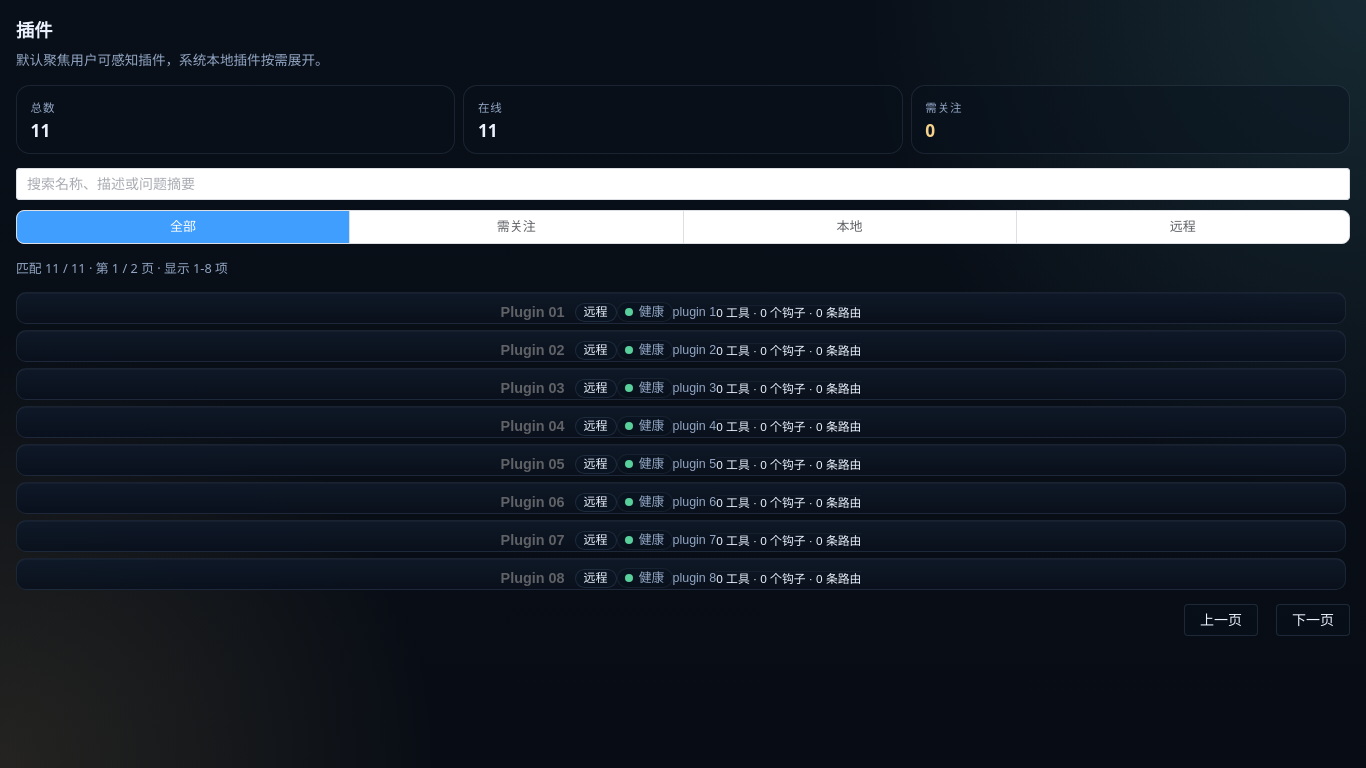
it: PluginSidebar › paginates plugin index results and resets to the first page after searching
Step 1. Click the button with test id "plugin-sidebar-next-page" → (1313, 620), box left=1276, top=604, right=1350, bottom=636
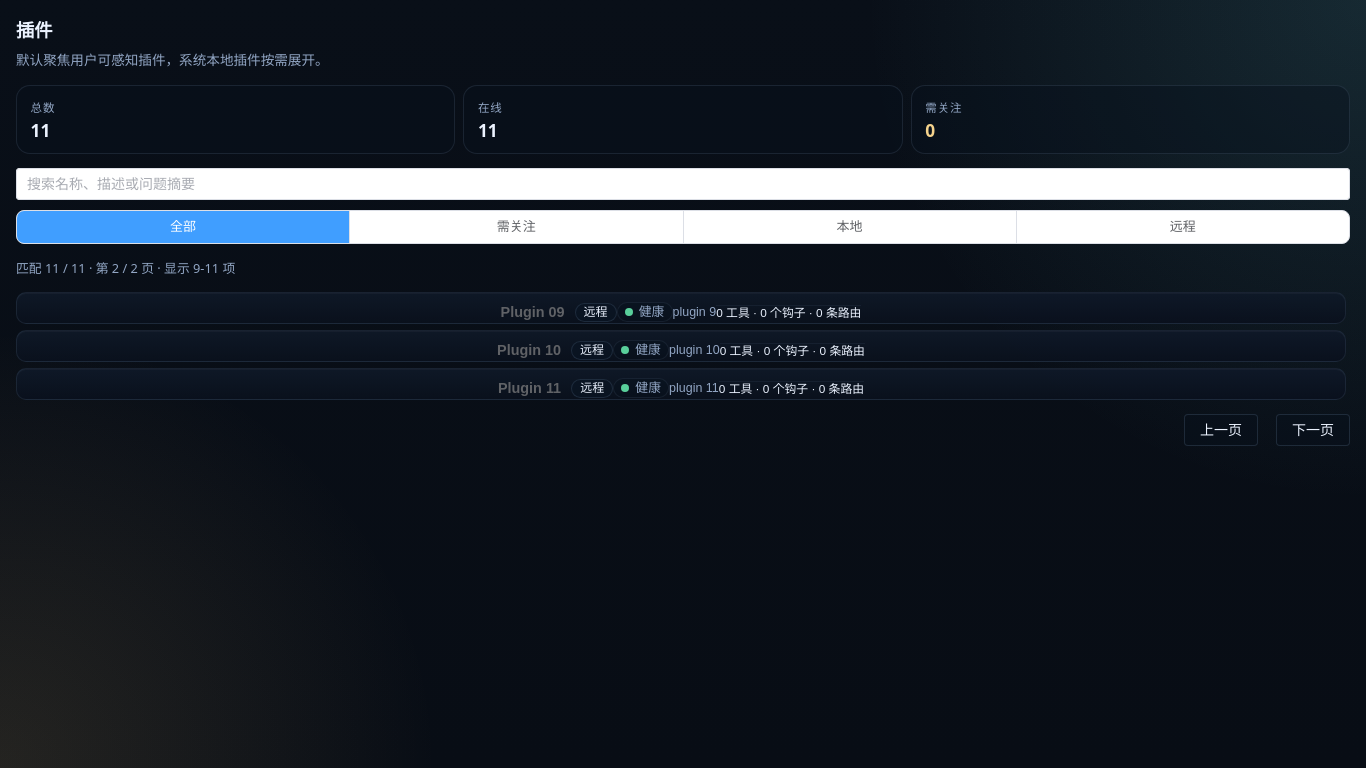
Expected: the text "第 2 / 2 页" is shown, left=89, top=259, right=235, bottom=277
Expected: the text "Plugin 09" is shown, left=500, top=303, right=564, bottom=322
Step 2. Type "plugin-11" into the field with test id "plugin-sidebar-search" → (683, 184), box left=27, top=169, right=1339, bottom=199
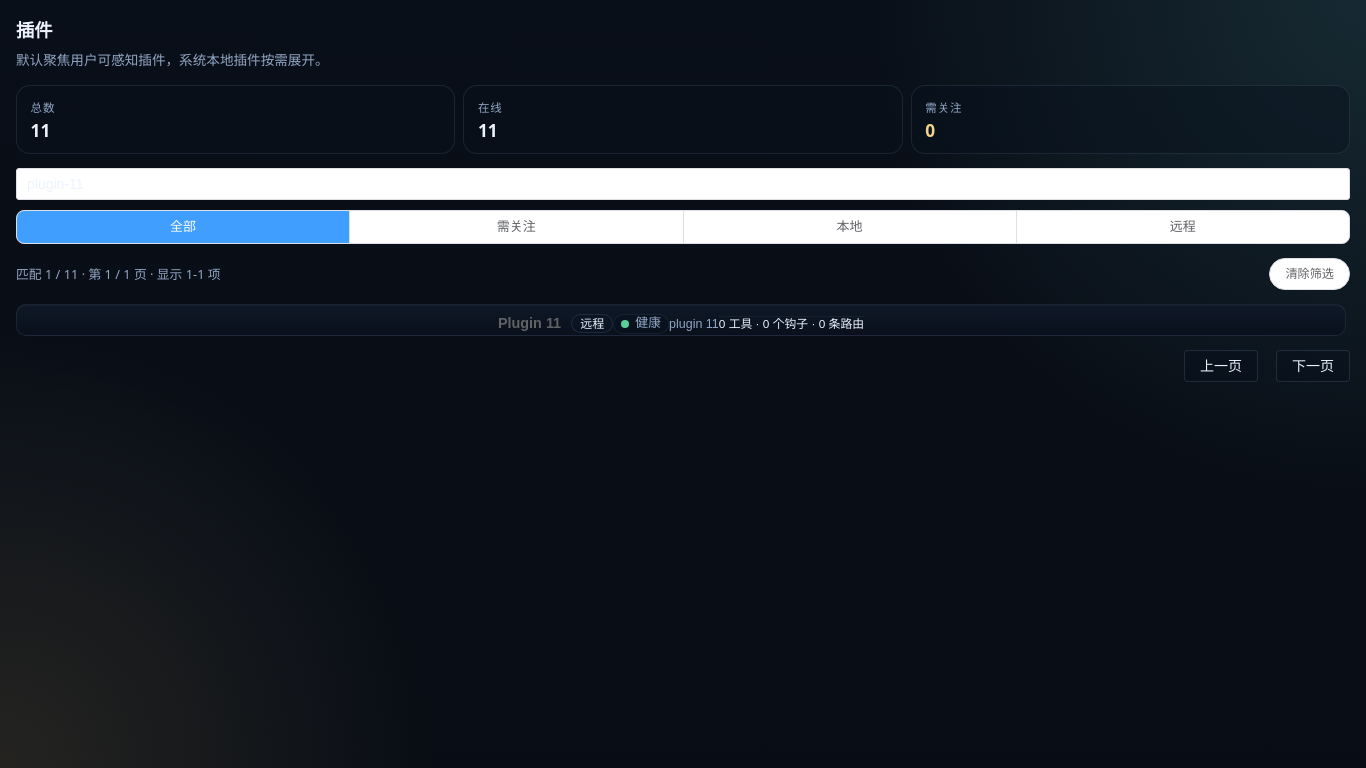
Expected: the text "Plugin 11" is shown, left=498, top=314, right=561, bottom=333
Expected: the text "匹配 1 / 11" is shown, left=16, top=265, right=82, bottom=283
Expected: the text "第 1 / 1 页" is shown, left=82, top=265, right=221, bottom=283
